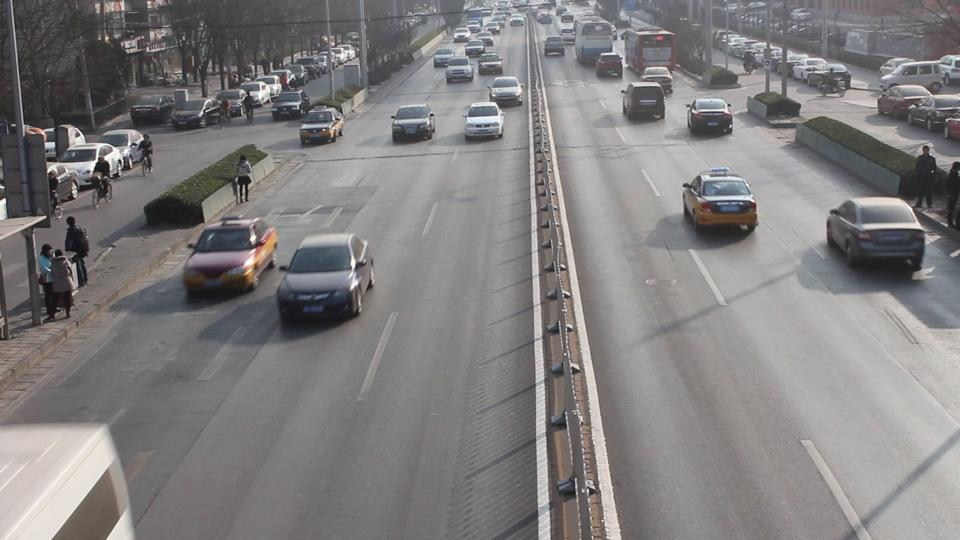Bus: (623, 27, 674, 75)
Car: (280, 238, 374, 324), (827, 197, 927, 271), (184, 223, 279, 294), (680, 170, 759, 234), (685, 97, 736, 137), (298, 104, 344, 146), (621, 82, 668, 122), (391, 102, 435, 143), (464, 101, 506, 143), (488, 75, 523, 106), (641, 63, 673, 94), (596, 52, 622, 79), (447, 57, 474, 83), (477, 52, 503, 75), (432, 46, 454, 68), (543, 36, 565, 57)
